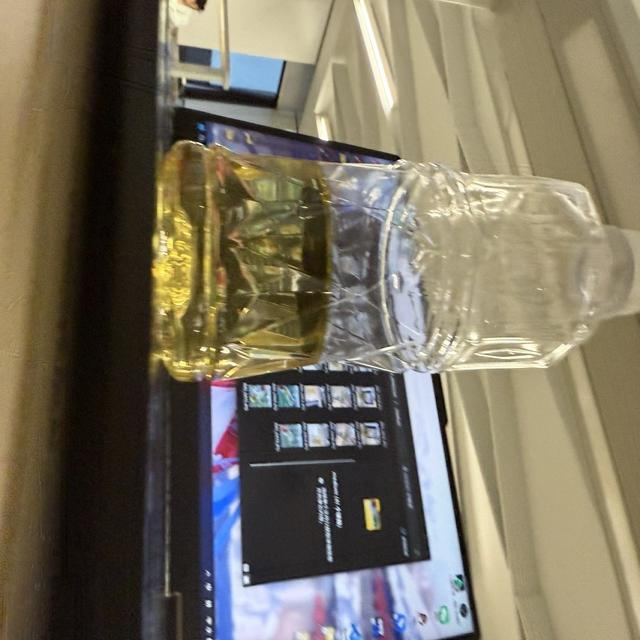low: (152, 142, 639, 379)
